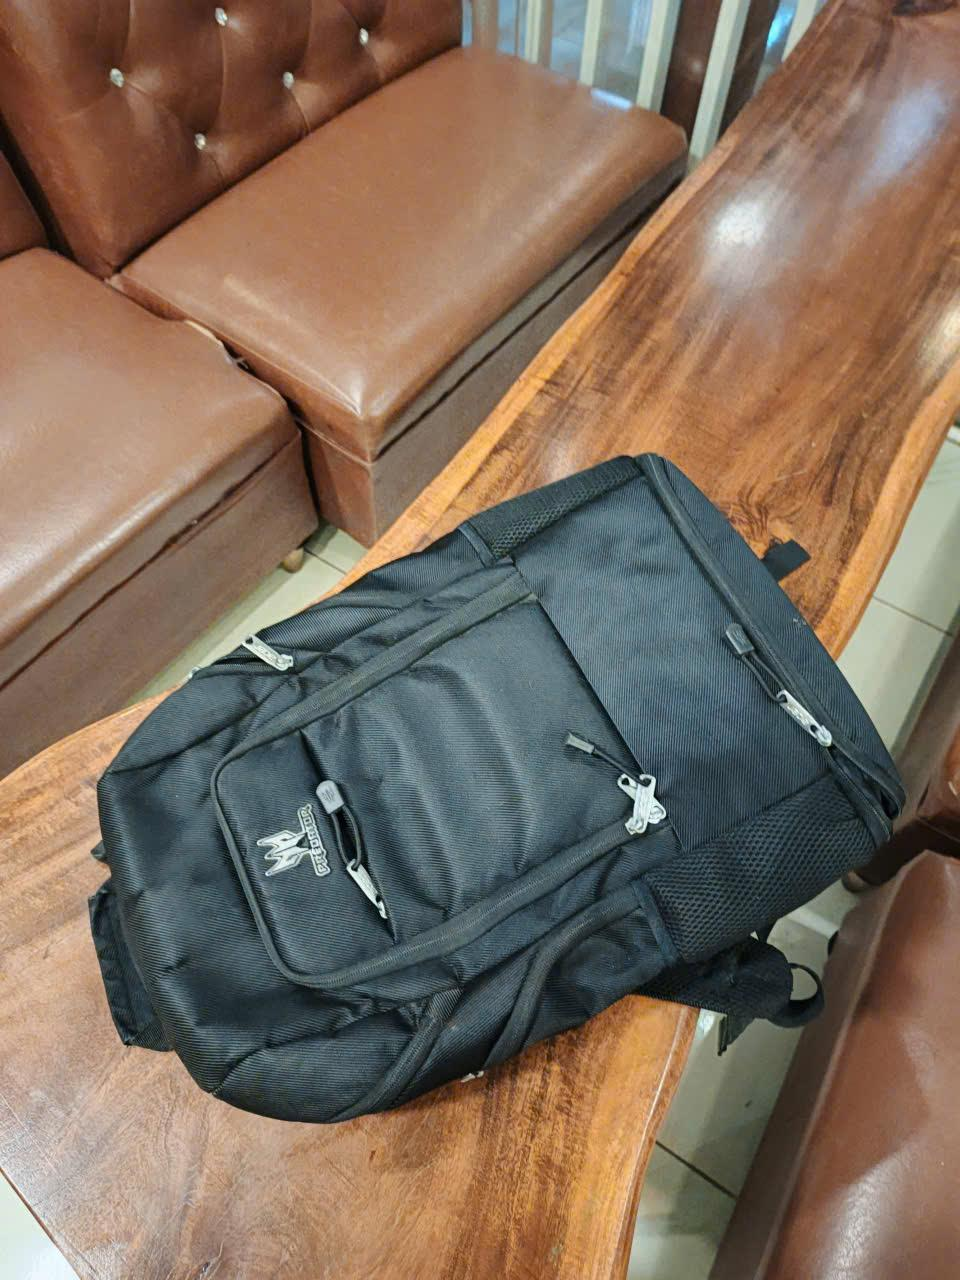Con lai: (90, 451, 916, 1121)
